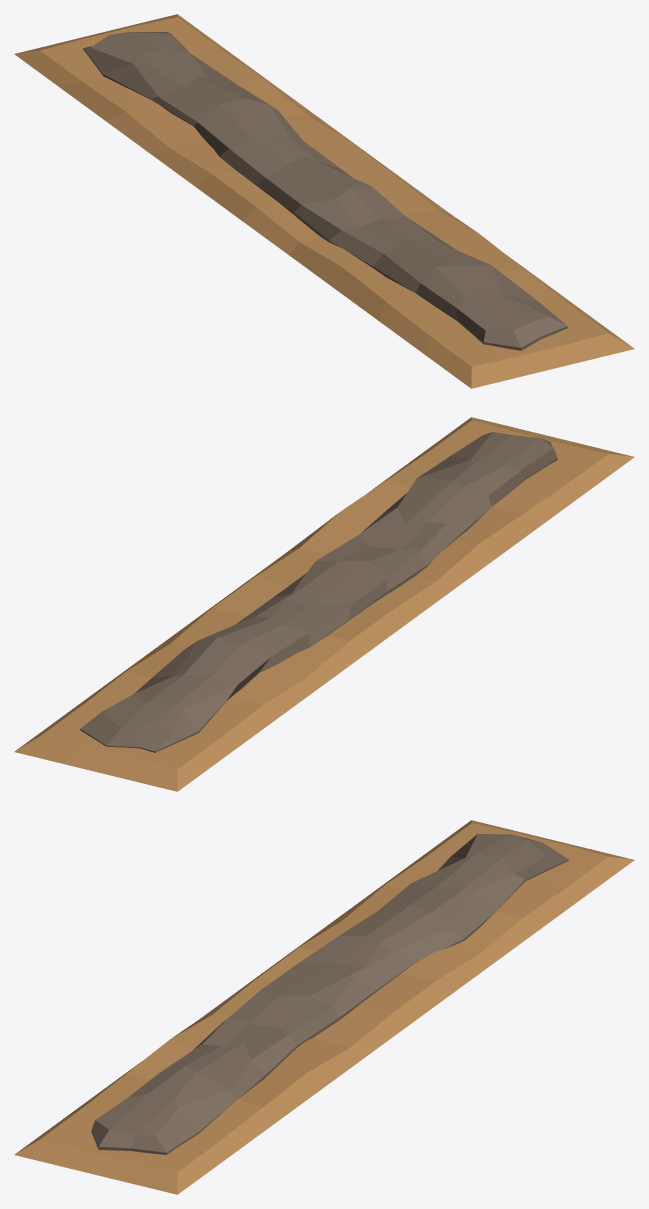
Rendered from field_a.gltf.
The picture shows the model from 3 angles, top to bottom: view 1: azimuth 30°, elevation 25°; view 2: azimuth 150°, elevation 25°; view 3: azimuth 330°, elevation 25°; orthographic projection.
Visible parts, largest first — view 1: field_a001; view 2: field_a001; view 3: field_a001.
Boxes of the visible parts, bbox=[...] form: field_a001: bbox=[14, 14, 634, 388]; field_a001: bbox=[14, 417, 634, 791]; field_a001: bbox=[14, 820, 634, 1194].
Bounding box in the file's own units: 1.05 × 0.1892 × 5.09.
1 material, 1 textured.
